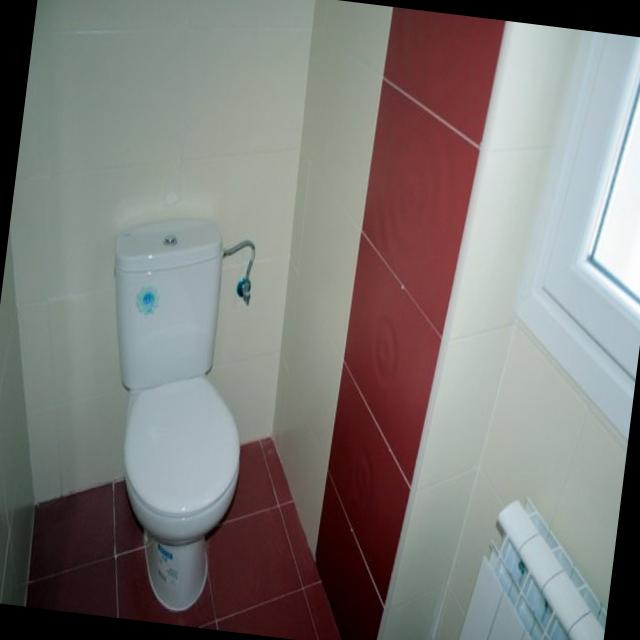Window: (512, 30, 640, 443)
floor -X: (26, 434, 342, 640)
tile wall: (362, 78, 479, 339)
toilet bowl: (115, 217, 243, 609)
valve: (237, 277, 252, 304)
wall clock: (10, 0, 316, 505)
